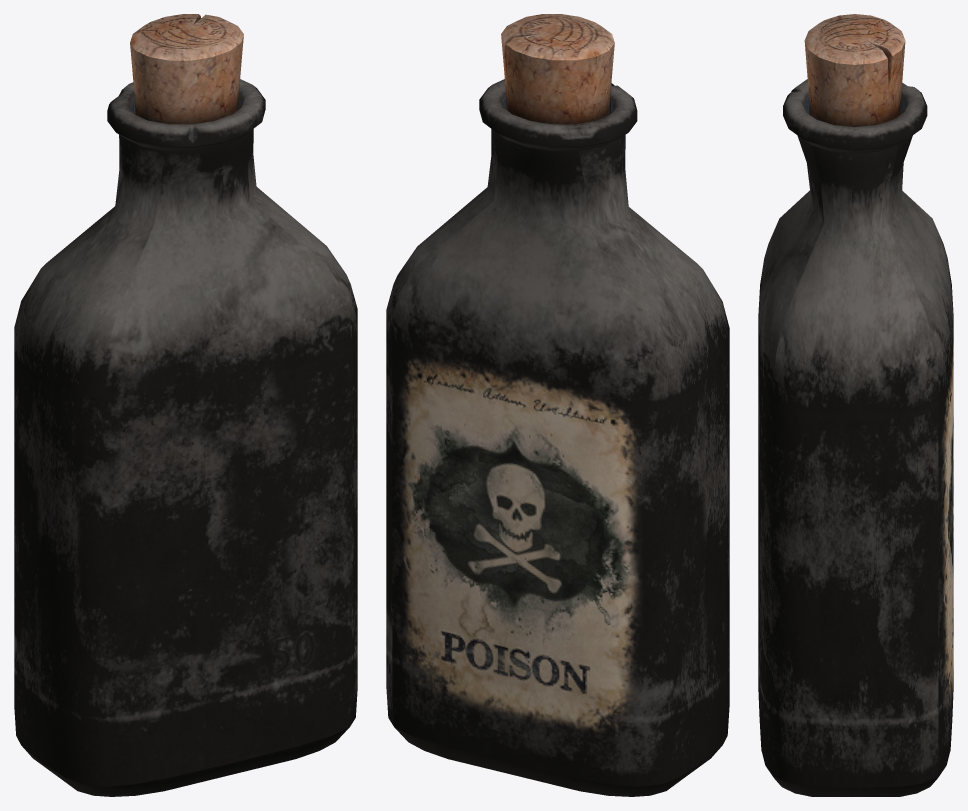
Rendered from poison GLB.glb.
3 renders of one model, left to right at view 1: azimuth 30°, elevation 25°; view 2: azimuth 150°, elevation 25°; view 3: azimuth 270°, elevation 25°, orthographic.
Visible parts, largest first — view 1: Bottle_LP_meshId1_name, Cork_LP_meshId0_name; view 2: Bottle_LP_meshId1_name, Cork_LP_meshId0_name; view 3: Bottle_LP_meshId1_name, Cork_LP_meshId0_name.
Part boxes in pixels (box(x1,y1,x2,y2)): Bottle_LP_meshId1_name: box(14, 79, 357, 796); Cork_LP_meshId0_name: box(130, 14, 243, 124); Bottle_LP_meshId1_name: box(386, 79, 729, 796); Cork_LP_meshId0_name: box(501, 14, 614, 124); Bottle_LP_meshId1_name: box(758, 79, 953, 796); Cork_LP_meshId0_name: box(804, 14, 905, 126).
Size of the model in its own units: 12.73 by 29.43 by 7.43.
Materials: 3 (2 with a texture image).
